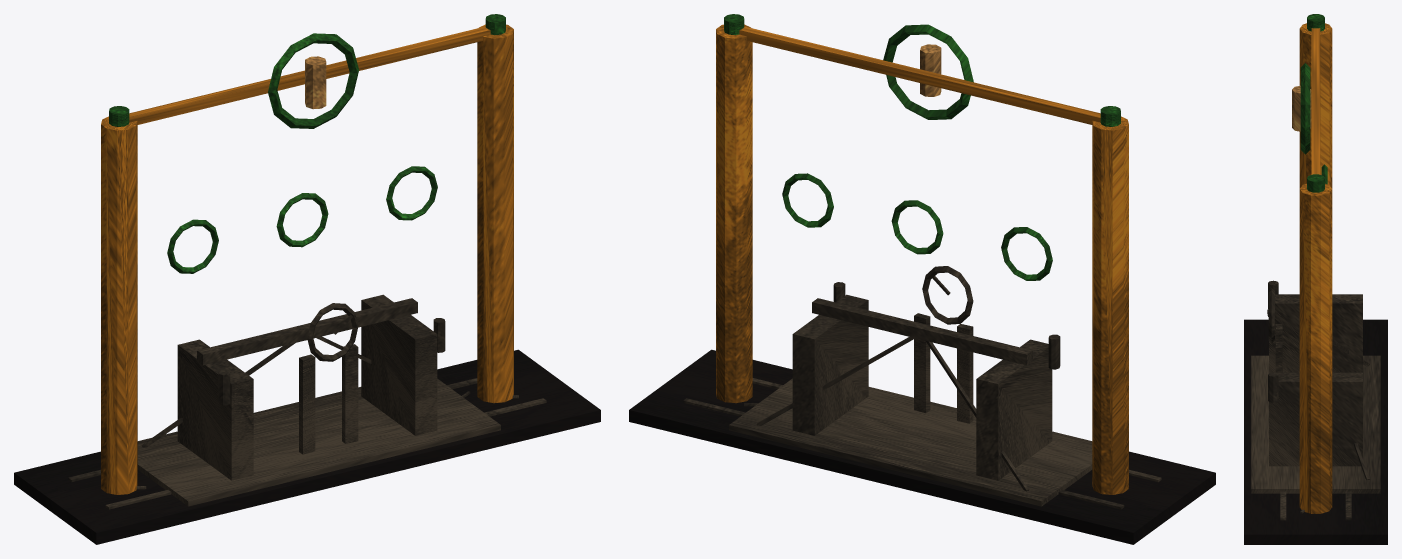
Rendered from north-basin-waygate.glb.
3 renders of one model, left to right at view 1: azimuth 30°, elevation 25°; view 2: azimuth 150°, elevation 25°; view 3: azimuth 270°, elevation 25°, orthographic. The views are drawn at different scales.
Parts seen in each view (by area): view 1: north-basin-waygate; view 2: north-basin-waygate; view 3: north-basin-waygate.
Part boxes in pixels (x1=…): north-basin-waygate: x1=14, y1=14, x2=600, y2=544; north-basin-waygate: x1=629, y1=14, x2=1215, y2=544; north-basin-waygate: x1=1244, y1=14, x2=1387, y2=544.
Size of the model in its own units: 10.6 by 8.52 by 3.
1 material, 1 textured.
